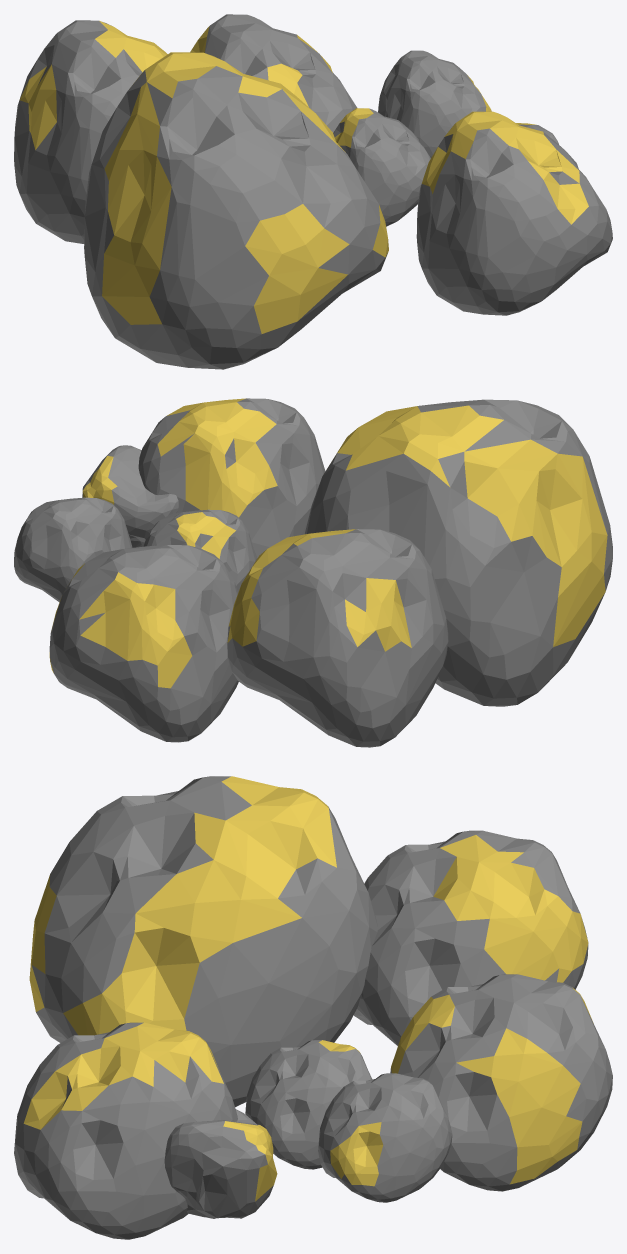
The model's file is gold.glb.
The picture shows the model from 3 angles, top to bottom: view 1: azimuth 30°, elevation 25°; view 2: azimuth 150°, elevation 25°; view 3: azimuth 270°, elevation 25°; orthographic projection. The views are drawn at different scales.
Visible parts, largest first — view 1: gold; view 2: gold; view 3: gold.
Boxes of the visible parts, box(x1,y1,x2,y2) form: gold: box(14, 14, 612, 369); gold: box(14, 398, 612, 747); gold: box(14, 776, 612, 1239).
Size of the model in its own units: 0.8688 by 0.4837 by 0.8709.
